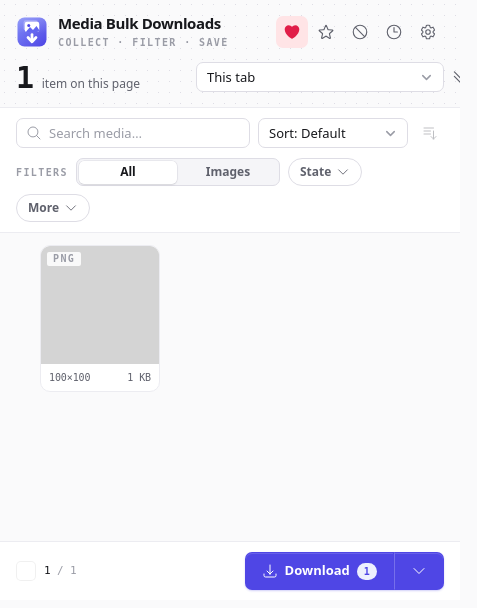
Test: App Component › shows the filtered-empty state (not a blank grid) when filters hide everything, and Clear filters restores it
Expected: the text "Filters" is shown, x1=16 y1=165 x2=68 y2=180
# A format filter matching nothing hides the only item → grid would be blank.
Click the button "More" at [53, 208], box x1=16 y1=194 x2=90 y2=222
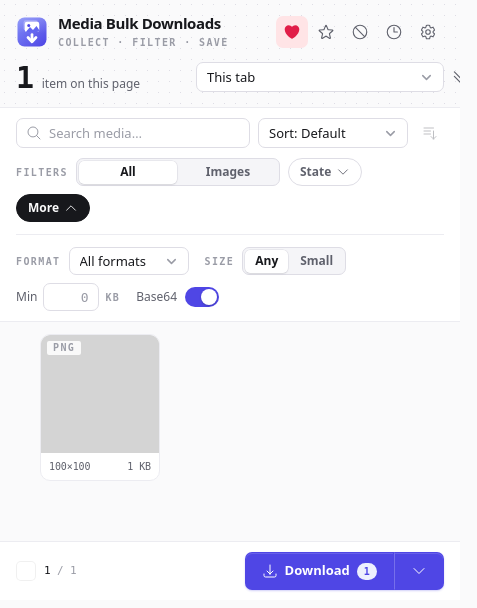
Select "jpeg" in the dropdown named "Media format" at [128, 261], box x1=68 y1=247 x2=188 y2=275
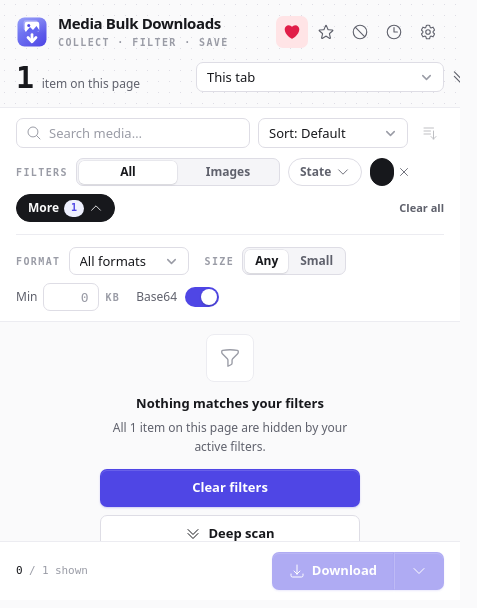
Expected: the text "Nothing matches your filters" is shown, x1=136 y1=394 x2=324 y2=412
# Clear filters from the empty state brings the grid back.
Click the button "Clear filters" at [230, 488], box x1=100 y1=469 x2=360 y2=507
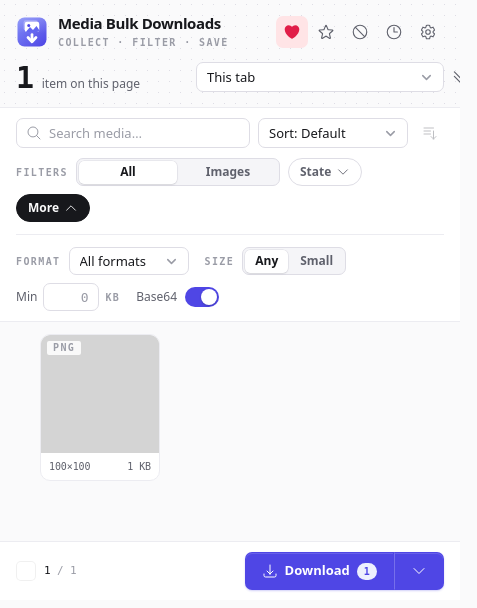
Expected: the text "Nothing matches your filters" is gone
